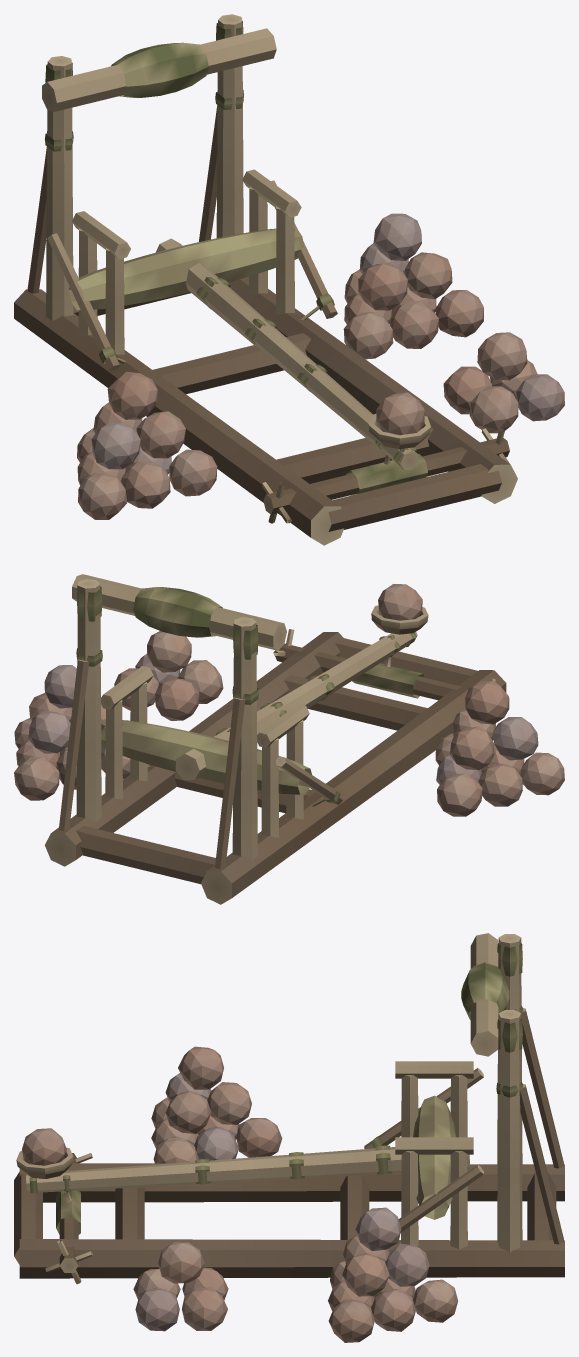
File: catapult_a.glb
3 views of the same model, one above another, from view 1: azimuth 30°, elevation 25°; view 2: azimuth 150°, elevation 25°; view 3: azimuth 270°, elevation 25° (orthographic). The views are drawn at different scales.
Parts seen in each view (by area): view 1: Base, Store2, Store3, Arm, Pile, Stone; view 2: Base, Store2, Store3, Arm, Pile, Stone; view 3: Base, Store3, Store2, Arm, Pile, Stone.
Part boxes in pixels (bbox=[...]): Base: bbox=[14, 14, 517, 545]; Store2: bbox=[77, 371, 217, 519]; Store3: bbox=[343, 213, 483, 359]; Arm: bbox=[155, 238, 430, 469]; Pile: bbox=[443, 332, 564, 433]; Stone: bbox=[376, 392, 424, 435]; Base: bbox=[45, 574, 506, 904]; Store2: bbox=[435, 680, 564, 816]; Store3: bbox=[14, 665, 130, 800]; Arm: bbox=[175, 605, 428, 779]; Pile: bbox=[114, 631, 223, 720]; Stone: bbox=[378, 584, 422, 620]; Base: bbox=[14, 933, 564, 1284]; Store3: bbox=[328, 1207, 457, 1342]; Store2: bbox=[151, 1046, 282, 1163]; Arm: bbox=[16, 1145, 470, 1193]; Pile: bbox=[133, 1242, 228, 1331]; Stone: bbox=[22, 1128, 66, 1165].
Bounding box in the file's own units: 3.62 × 2.03 × 3.8.
